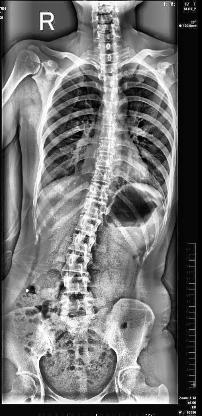Vertebrae: (57, 298, 96, 316), (60, 255, 92, 275), (59, 276, 93, 294), (66, 235, 96, 255), (74, 218, 102, 236), (82, 199, 108, 217), (92, 168, 113, 184), (87, 184, 111, 198), (94, 154, 114, 168), (100, 124, 117, 140), (102, 86, 118, 102), (103, 74, 119, 88), (99, 140, 115, 154), (102, 112, 117, 126), (102, 100, 118, 113), (104, 65, 119, 75)
